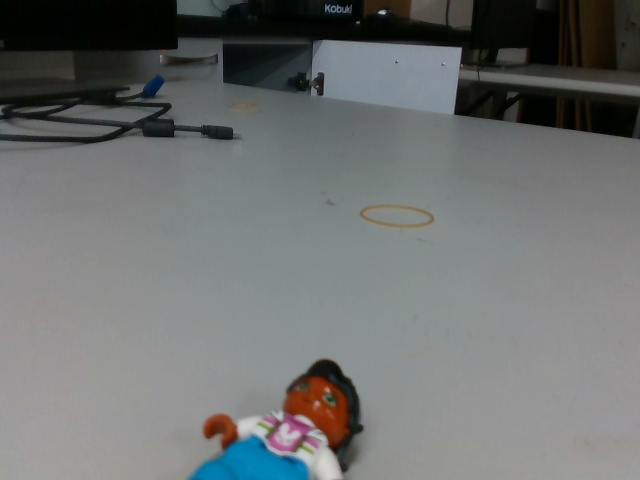people: (168, 356, 370, 480)
